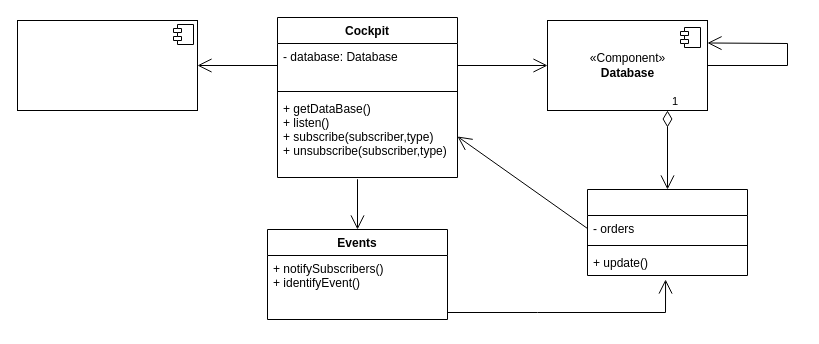
Some shapes in this 819 by 344 pixel diagram are drawn without their labels. Here are the shapes that lost their labels. From the top down, the box of each, then its label:
(16, 20, 198, 110): <<Component>> Sensor
(586, 188, 748, 276): Operator
